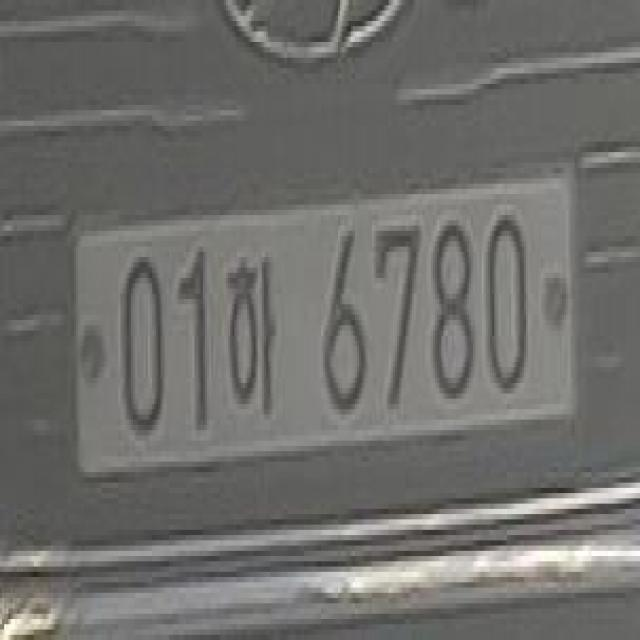illegal_plate: (70, 166, 582, 494)
